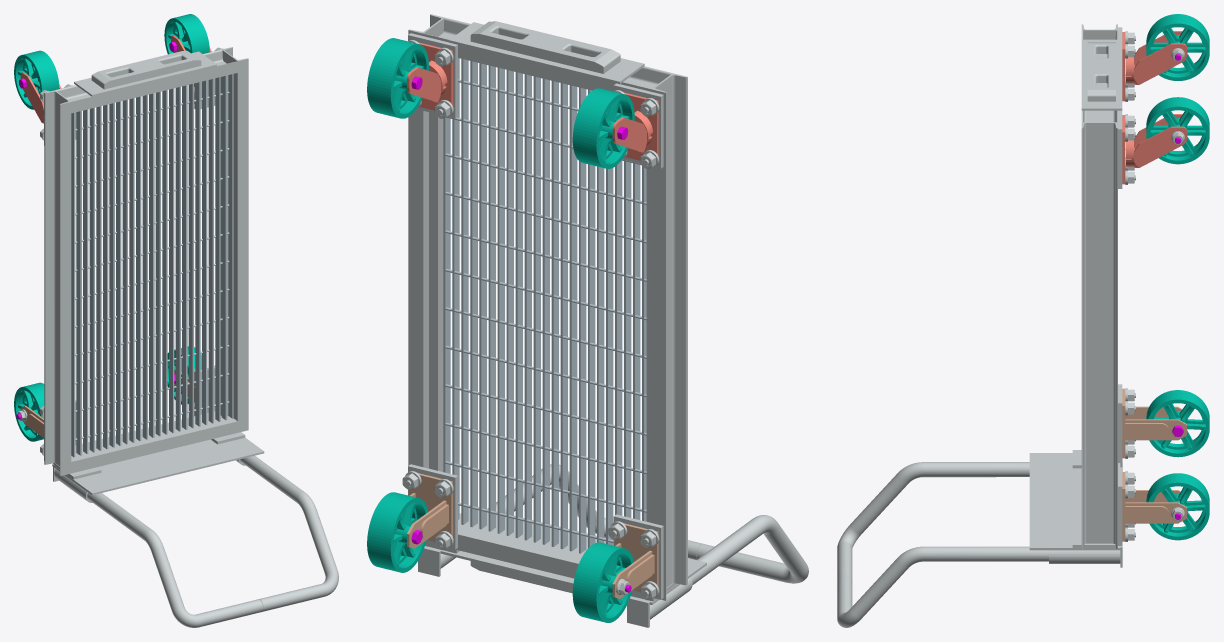
File: Cart_assembly.glb
3 views of the same model, side by side, from view 1: azimuth 30°, elevation 25°; view 2: azimuth 150°, elevation 25°; view 3: azimuth 270°, elevation 25° (orthographic). The views are drawn at different scales.
Visible parts, largest first — view 1: Node1; view 2: Node1; view 3: Node1.
Boxes of the visible parts, x1,y1,x2,y2 form: Node1: (14,14,338,627); Node1: (367,14,808,627); Node1: (837,14,1209,627).
Size of the model in its own units: 690 by 1636 by 1043.
